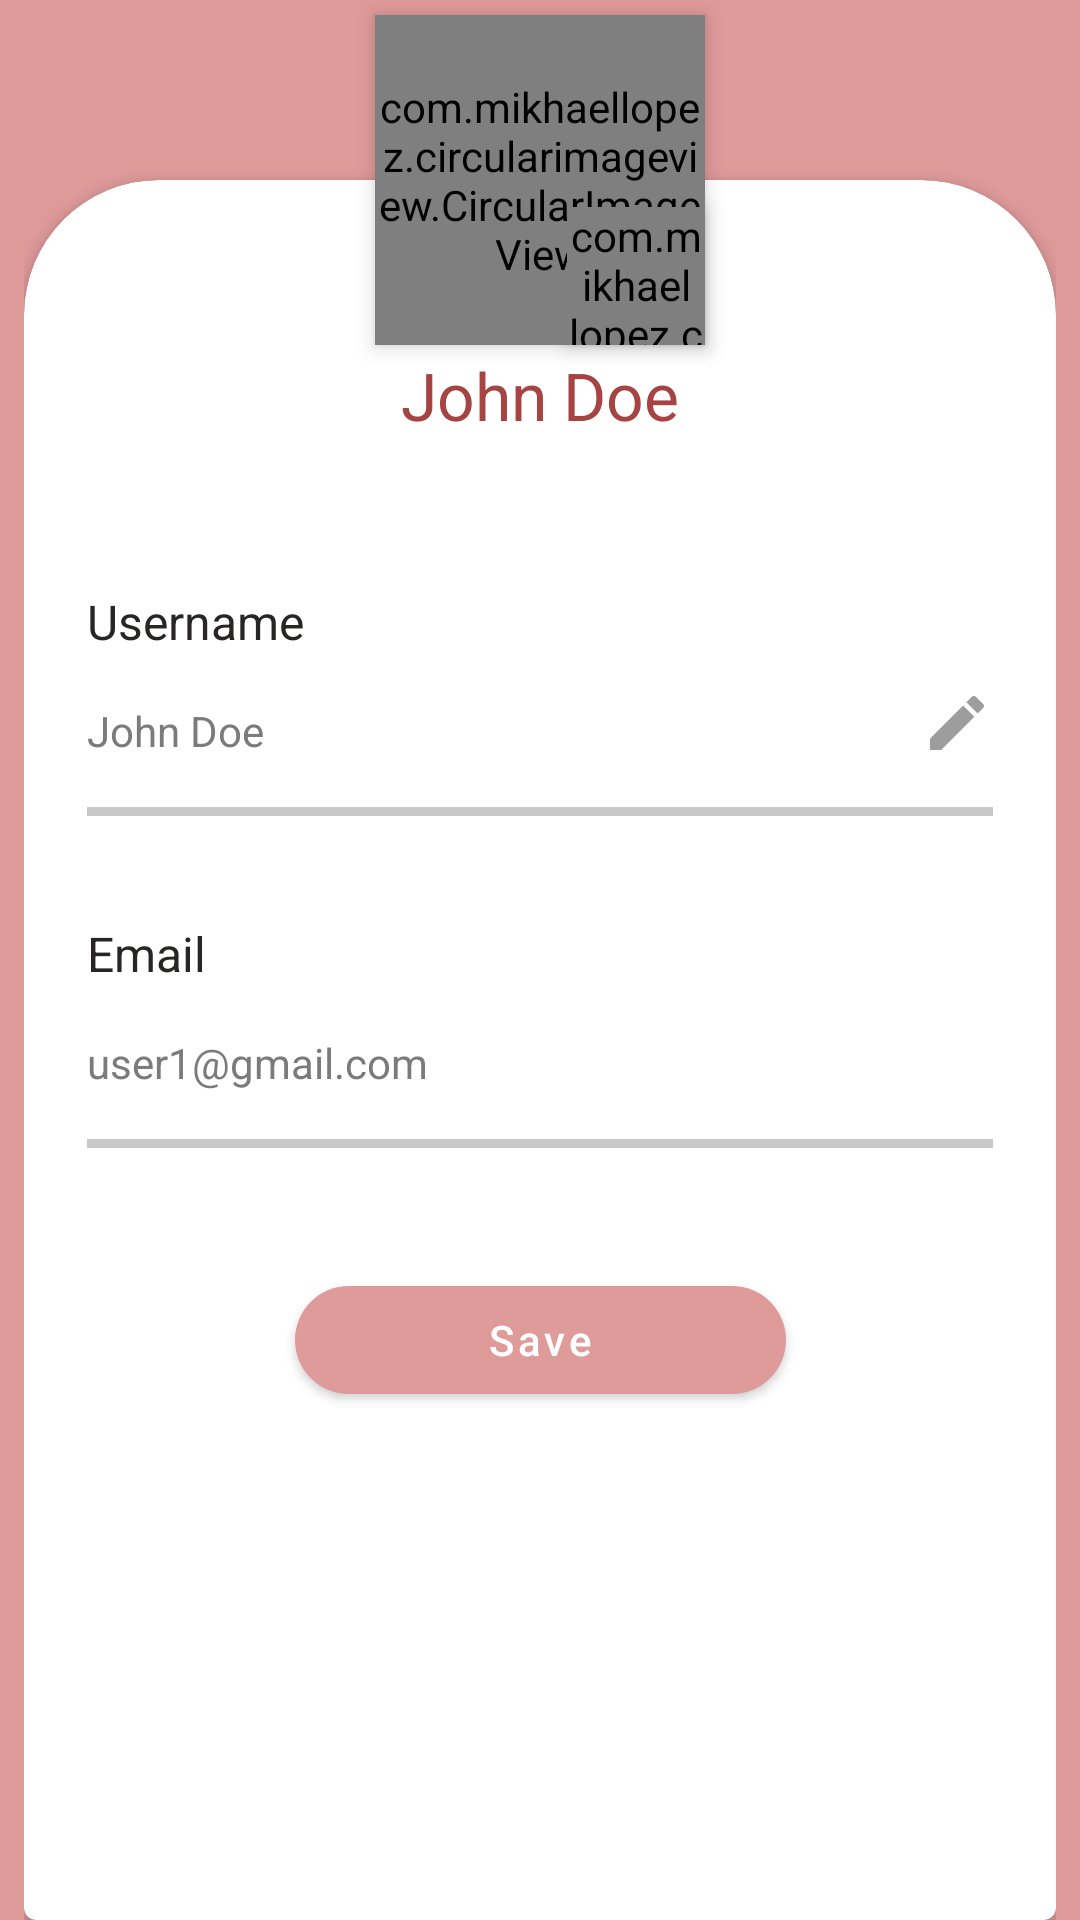

Icon bounding boxes for this 1080*1920 phone screenshot, format (x1, y1, x2, y2):
edit: (930, 696, 984, 750)
